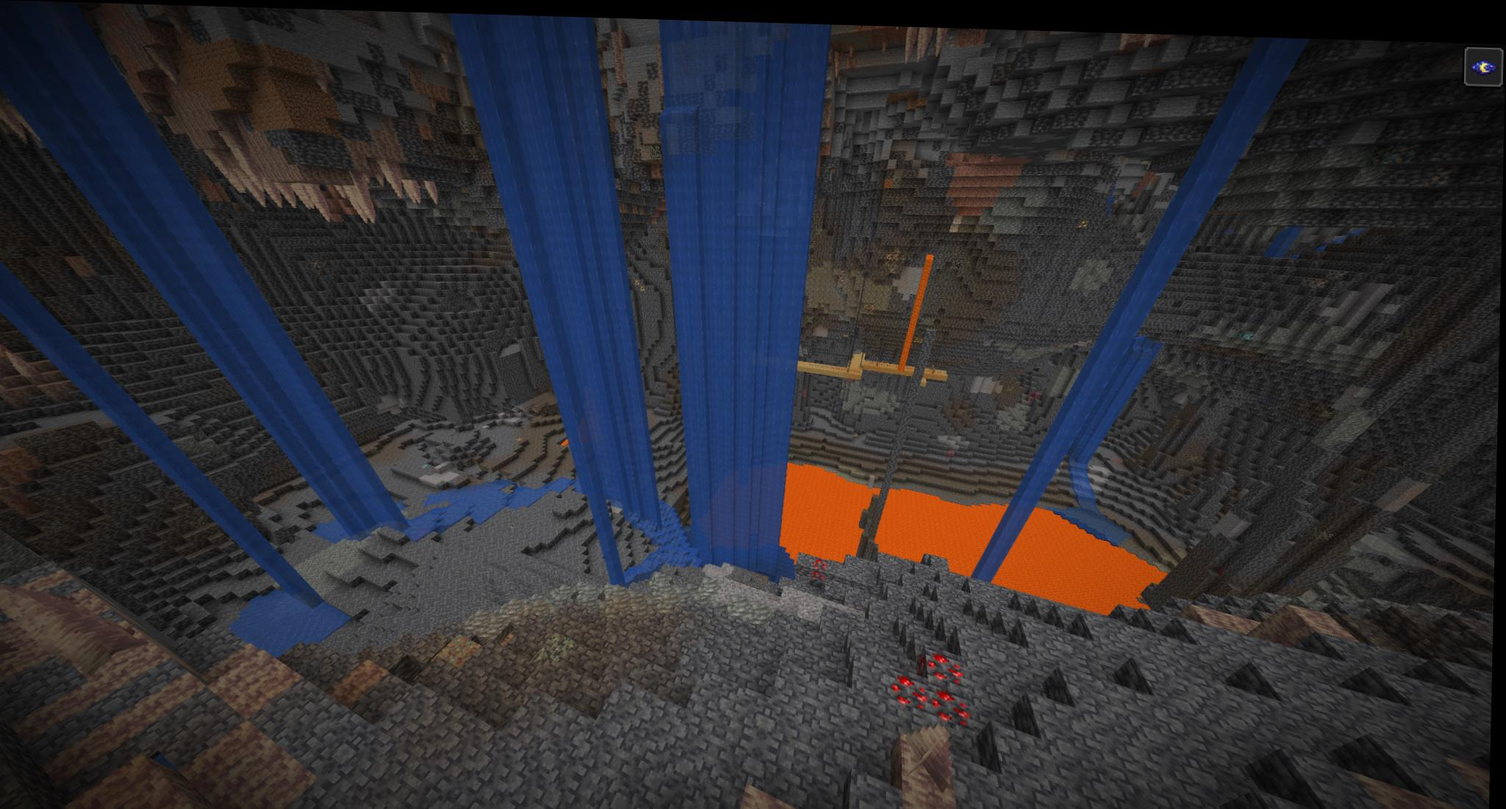redstone ore: (892, 641, 978, 721)
